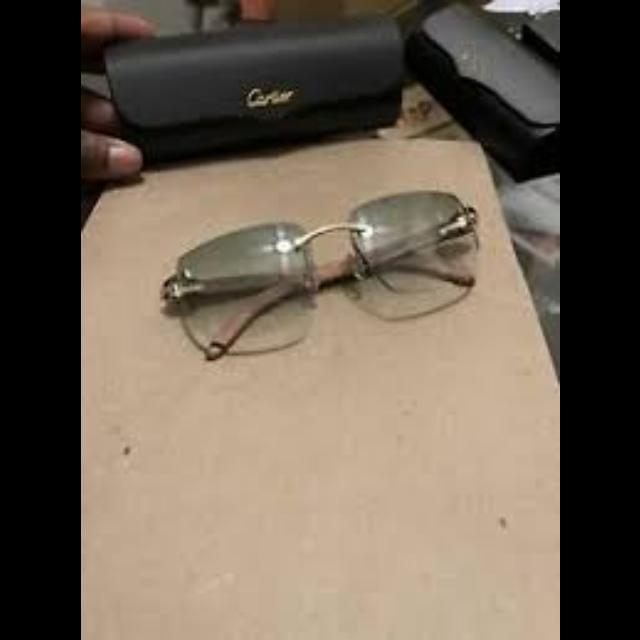sunglasses: (157, 189, 485, 361)
